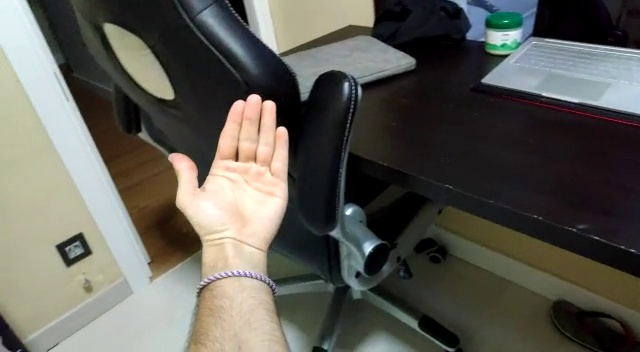Palm: (166, 93, 293, 257)
